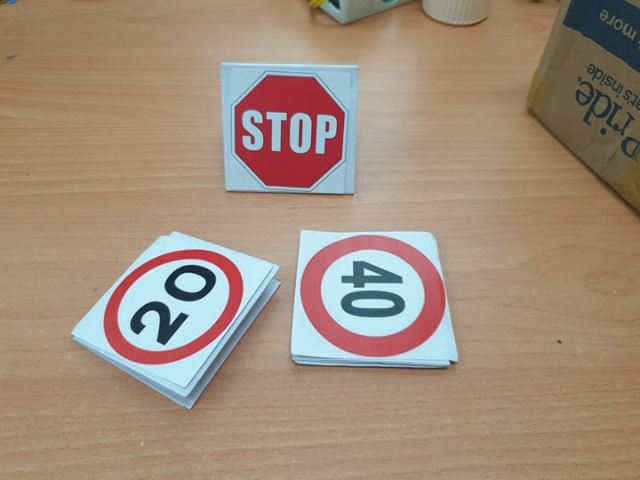Limit 20: (104, 260, 245, 359)
Limit 40: (299, 238, 450, 357)
Stop: (229, 71, 348, 193)
